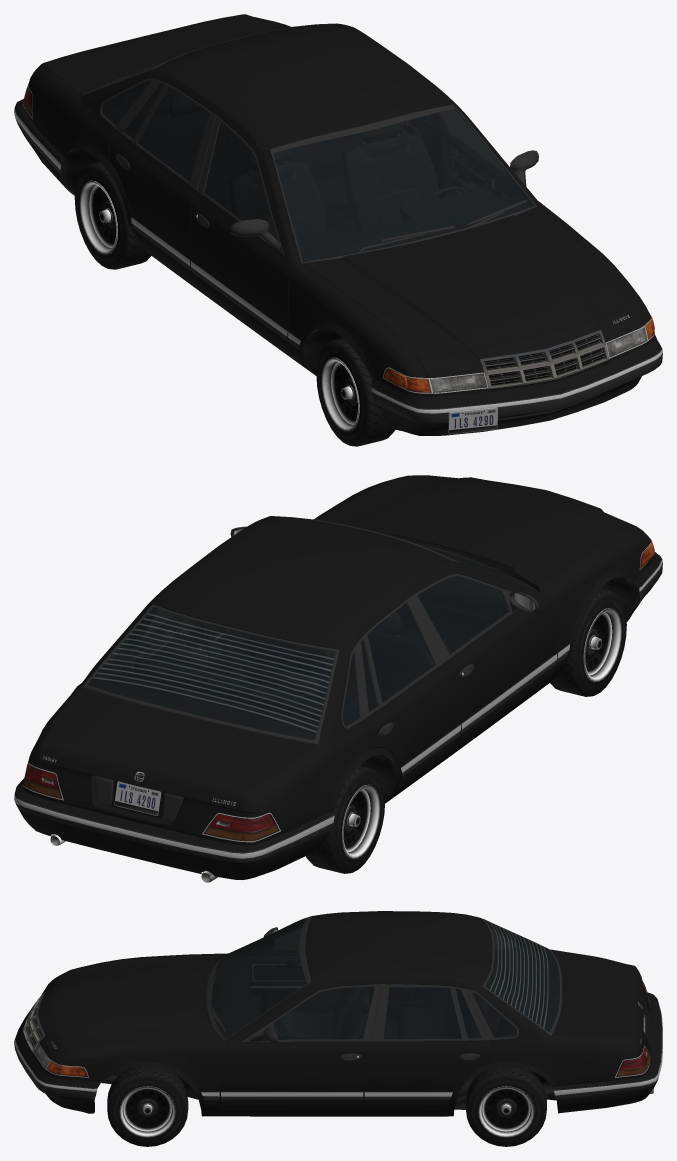
Rendered from illinois.glb.
3 views of the same model, one above another, from view 1: azimuth 30°, elevation 25°; view 2: azimuth 150°, elevation 25°; view 3: azimuth 270°, elevation 25° (orthographic). The views are drawn at different scales.
Parts seen in each view (by area): view 1: Illinois90_Body_Illinois90_Bodymat_0, Illinois90_Interior_UCB_Interiors_2_0, Illinois90_Hood_Illinois90_Bodymat_0, Illinois90_Windshield_UCB_Lights_and_Glass_Transperent_0, Illinois90_Bottom_UCB_BOTTOM_0, Illinois90_Trunkdoor_Illinois90_Bodymat_0, Illinois90_Bumper_front_Illinois90_Bodymat_0, wheel_FR, Illinois90_Body_Glass_UCB_Lights_and_Glass_Transperent_0, wheel_RR, Illinois90_Bumper_front_inner_UCB_BOTTOM_0, Illinois90_Glass_Passenger_UCB_Lights_and_Glass_Transperent_ (+6 smaller); view 2: Illinois90_Body_Illinois90_Bodymat_0, Illinois90_Interior_UCB_Interiors_2_0, Illinois90_Trunkdoor_Illinois90_Bodymat_0, Illinois90_Rear_Glass_UCB_Lights_and_Glass_Transperent_0, Illinois90_Hood_Illinois90_Bodymat_0, Illinois90_Bottom_UCB_BOTTOM_0, Illinois90_Bumper_rear_Illinois90_Bodymat_0, Illinois90_Body_Glass_UCB_Lights_and_Glass_Transperent_0, wheel_RR, wheel_FR, Illinois90_Glass_Passenger_UCB_Lights_and_Glass_Transperent_, Illinois90_Bumper_rear_inner_UCB_BOTTOM_0 (+5 smaller); view 3: Illinois90_Body_Illinois90_Bodymat_0, Illinois90_Interior_UCB_Interiors_2_0, Illinois90_Hood_Illinois90_Bodymat_0, Illinois90_Bottom_UCB_BOTTOM_0, Illinois90_Trunkdoor_Illinois90_Bodymat_0, Illinois90_Windshield_UCB_Lights_and_Glass_Transperent_0, wheel_FL, wheel_RL, Illinois90_Body_Glass_UCB_Lights_and_Glass_Transperent_0, Illinois90_Rear_Glass_UCB_Lights_and_Glass_Transperent_0, Illinois90_glass_Driver_UCB_Lights_and_Glass_Transperent_0, Illinois90_Bumper_rear_Illinois90_Bodymat_0 (+7 smaller).
Part boxes in pixels (left/top/right/bottom): Illinois90_Body_Illinois90_Bodymat_0: left=23, top=14, right=655, bottom=396; Illinois90_Interior_UCB_Interiors_2_0: left=103, top=70, right=534, bottom=262; Illinois90_Hood_Illinois90_Bodymat_0: left=303, top=206, right=633, bottom=357; Illinois90_Windshield_UCB_Lights_and_Glass_Transperent_0: left=273, top=108, right=534, bottom=262; Illinois90_Bottom_UCB_BOTTOM_0: left=23, top=23, right=654, bottom=435; Illinois90_Trunkdoor_Illinois90_Bodymat_0: left=42, top=14, right=286, bottom=95; Illinois90_Bumper_front_Illinois90_Bodymat_0: left=371, top=336, right=661, bottom=435; wheel_FR: left=316, top=338, right=395, bottom=446; Illinois90_Body_Glass_UCB_Lights_and_Glass_Transperent_0: left=101, top=80, right=209, bottom=181; wheel_RR: left=74, top=161, right=151, bottom=269; Illinois90_Bumper_front_inner_UCB_BOTTOM_0: left=371, top=345, right=662, bottom=423; Illinois90_Glass_Passenger_UCB_Lights_and_Glass_Transperent_: left=204, top=122, right=270, bottom=221; Illinois90_Body_Illinois90_Bodymat_0: left=23, top=475, right=655, bottom=845; Illinois90_Interior_UCB_Interiors_2_0: left=88, top=553, right=530, bottom=766; Illinois90_Trunkdoor_Illinois90_Bodymat_0: left=40, top=687, right=316, bottom=834; Illinois90_Rear_Glass_UCB_Lights_and_Glass_Transperent_0: left=87, top=607, right=335, bottom=740; Illinois90_Hood_Illinois90_Bodymat_0: left=320, top=475, right=633, bottom=590; Illinois90_Bottom_UCB_BOTTOM_0: left=23, top=480, right=654, bottom=882; Illinois90_Bumper_rear_Illinois90_Bodymat_0: left=15, top=778, right=334, bottom=879; Illinois90_Body_Glass_UCB_Lights_and_Glass_Transperent_0: left=104, top=603, right=435, bottom=726; wheel_RR: left=306, top=765, right=385, bottom=873; wheel_FR: left=550, top=588, right=626, bottom=696; Illinois90_Glass_Passenger_UCB_Lights_and_Glass_Transperent_: left=417, top=576, right=508, bottom=654; Illinois90_Bumper_rear_inner_UCB_BOTTOM_0: left=14, top=790, right=334, bottom=863; Illinois90_Body_Illinois90_Bodymat_0: left=32, top=911, right=650, bottom=1116; Illinois90_Interior_UCB_Interiors_2_0: left=211, top=918, right=559, bottom=1041; Illinois90_Hood_Illinois90_Bodymat_0: left=49, top=954, right=222, bottom=1050; Illinois90_Bottom_UCB_BOTTOM_0: left=22, top=916, right=653, bottom=1116; Illinois90_Trunkdoor_Illinois90_Bodymat_0: left=551, top=950, right=650, bottom=1056; Illinois90_Windshield_UCB_Lights_and_Glass_Transperent_0: left=211, top=918, right=306, bottom=1039; wheel_FL: left=107, top=1066, right=188, bottom=1146; wheel_RL: left=466, top=1067, right=546, bottom=1146; Illinois90_Body_Glass_UCB_Lights_and_Glass_Transperent_0: left=383, top=930, right=517, bottom=1039; Illinois90_Rear_Glass_UCB_Lights_and_Glass_Transperent_0: left=485, top=921, right=559, bottom=1032; Illinois90_glass_Driver_UCB_Lights_and_Glass_Transperent_0: left=274, top=986, right=374, bottom=1039; Illinois90_Bumper_rear_Illinois90_Bodymat_0: left=553, top=992, right=661, bottom=1113.
Size of the model in its own units: 2.03 by 1.38 by 5.
8 materials, 7 textured.
